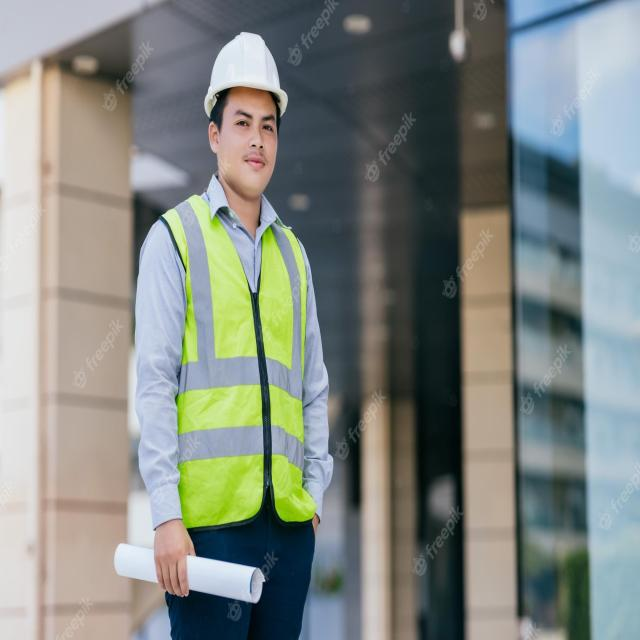helmet: (187, 22, 301, 118)
no-goggles: (216, 90, 291, 146)
vest: (152, 184, 328, 533)
